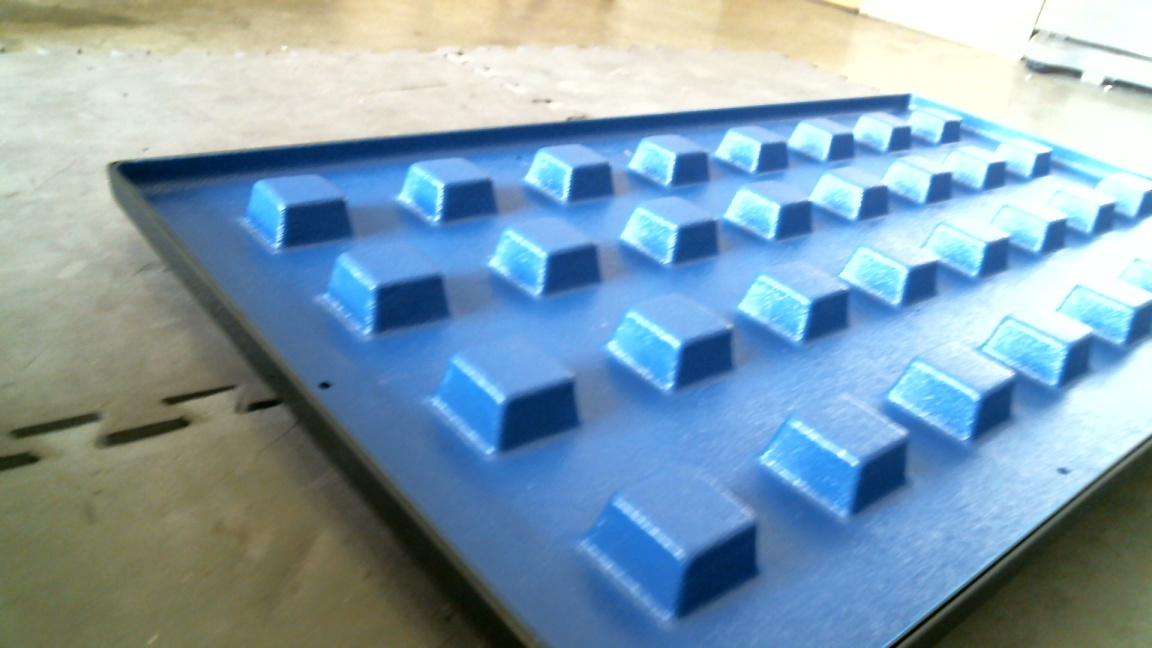blue_foundation: (107, 84, 1152, 645)
